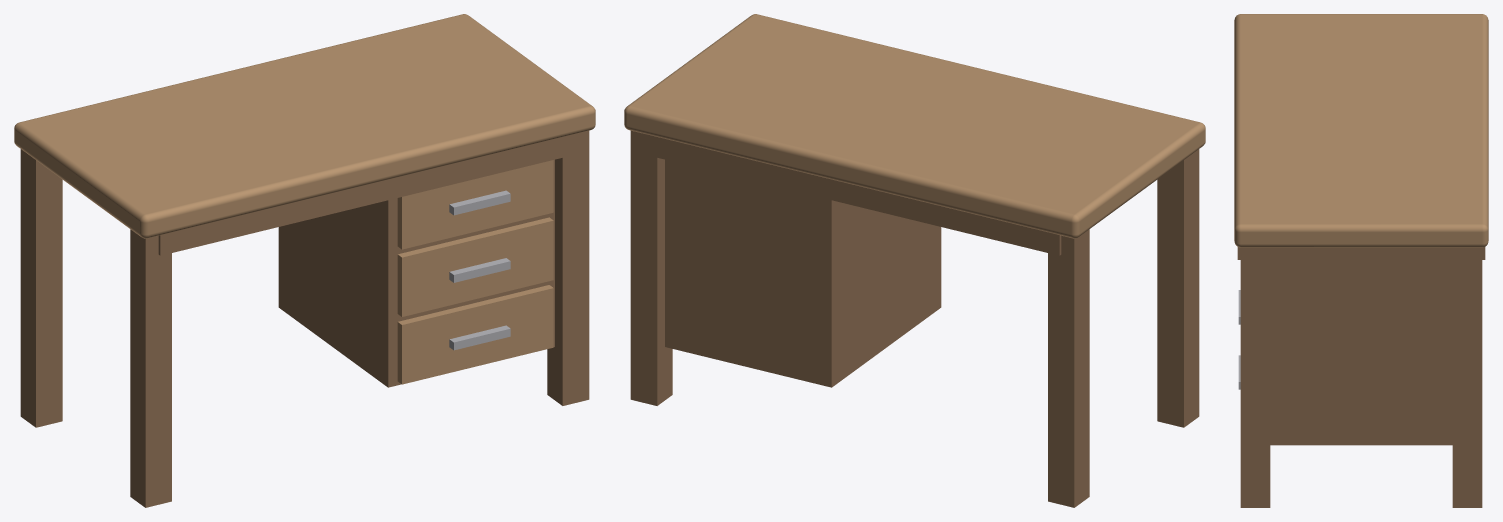
File: desk.glb
3 views of the same model, side by side, from view 1: azimuth 30°, elevation 25°; view 2: azimuth 150°, elevation 25°; view 3: azimuth 270°, elevation 25° (orthographic). The views are drawn at different scales.
Parts seen in each view (by area): view 1: top, drawer_body, leg_bl, leg_fl, drawer_2, drawer_3, leg_fr, apron_front, drawer_1, handle_1, handle_3, handle_2; view 2: top, drawer_body, leg_fl, leg_bl, leg_br, apron_back; view 3: top, drawer_body, leg_fr, leg_br.
Part boxes in pixels (x1,y1,x2,y2): top: [14, 14, 595, 238]; drawer_body: [278, 159, 554, 387]; leg_bl: [20, 149, 62, 427]; leg_fl: [130, 229, 171, 507]; drawer_2: [397, 217, 553, 316]; drawer_3: [397, 285, 553, 384]; leg_fr: [547, 130, 589, 405]; apron_front: [158, 133, 577, 255]; drawer_1: [397, 160, 553, 249]; handle_1: [449, 190, 510, 215]; handle_3: [449, 325, 510, 350]; handle_2: [449, 258, 510, 282]; top: [624, 14, 1205, 238]; drawer_body: [665, 159, 941, 387]; leg_fl: [1157, 149, 1199, 427]; leg_bl: [1048, 229, 1089, 507]; leg_br: [630, 130, 672, 405]; apron_back: [642, 133, 1061, 255]; top: [1234, 14, 1488, 247]; drawer_body: [1270, 247, 1452, 445]; leg_fr: [1240, 247, 1270, 507]; leg_br: [1452, 247, 1482, 507].
Size of the model in its own units: 1.2 by 0.74 by 0.6.
